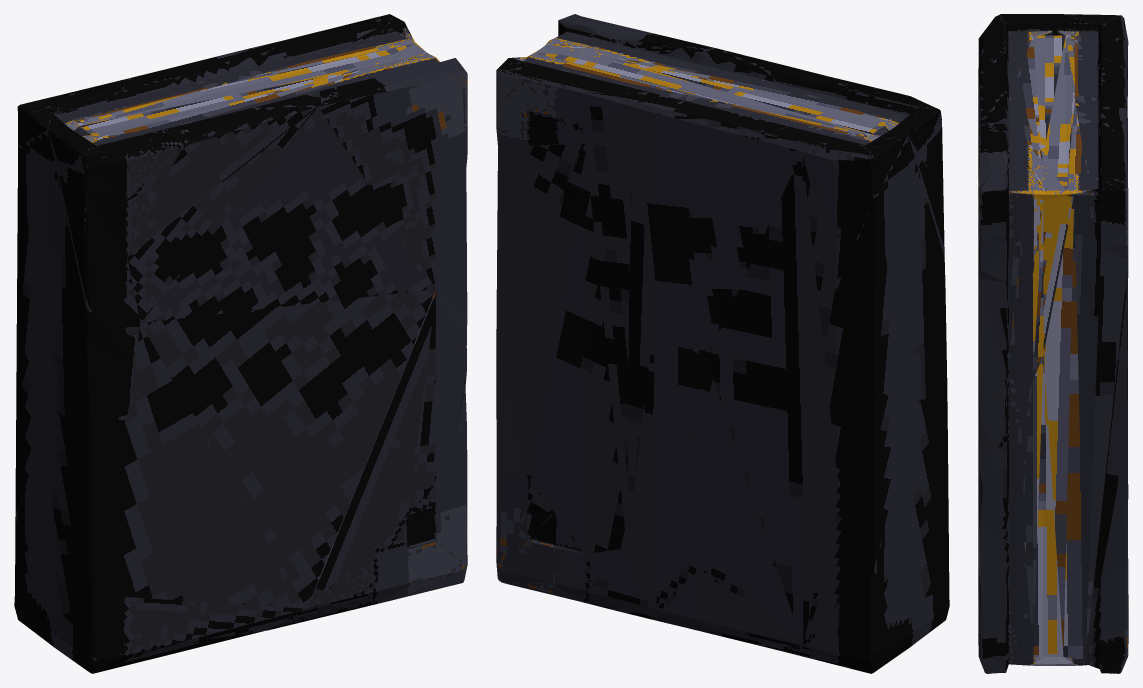
3 views of the same model, side by side, from view 1: azimuth 30°, elevation 25°; view 2: azimuth 150°, elevation 25°; view 3: azimuth 270°, elevation 25° (orthographic). The views are drawn at different scales.
Parts seen in each view (by area): view 1: OBJ137; view 2: OBJ137; view 3: OBJ137.
Part boxes in pixels (left/top/right/bottom): OBJ137: left=14, top=14, right=467, bottom=673; OBJ137: left=496, top=14, right=949, bottom=673; OBJ137: left=978, top=14, right=1128, bottom=673.
Bounding box in the file's own units: 0.2456 × 0.3193 × 0.0892.
Materials: 1 (1 with a texture image).
